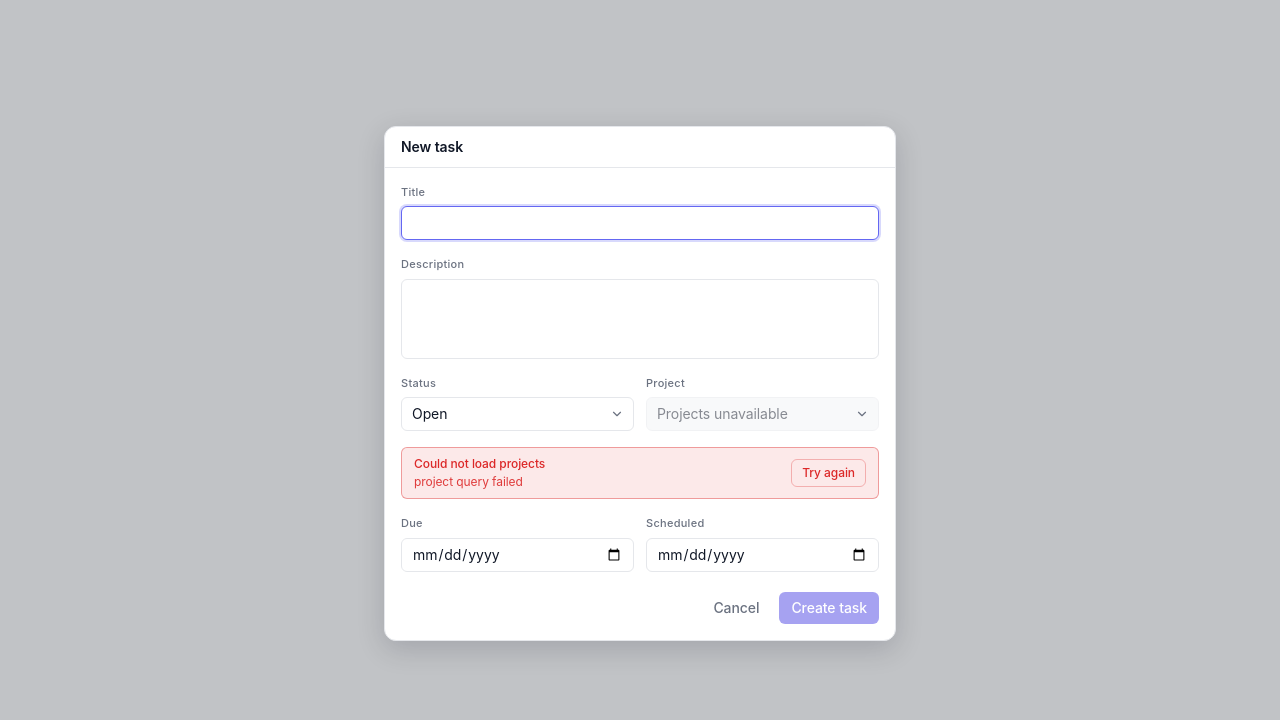
Scenario: TaskCreateDialog › distinguishes project loading and failure from an intentional unlinked task
Expected: the dropdown labelled "Project" is disabled, [646,397,879,431]
Expected: the button "Create task" is disabled, [779,592,879,624]
Click the button "Try again" at point(829, 473), box [791,459,866,487]
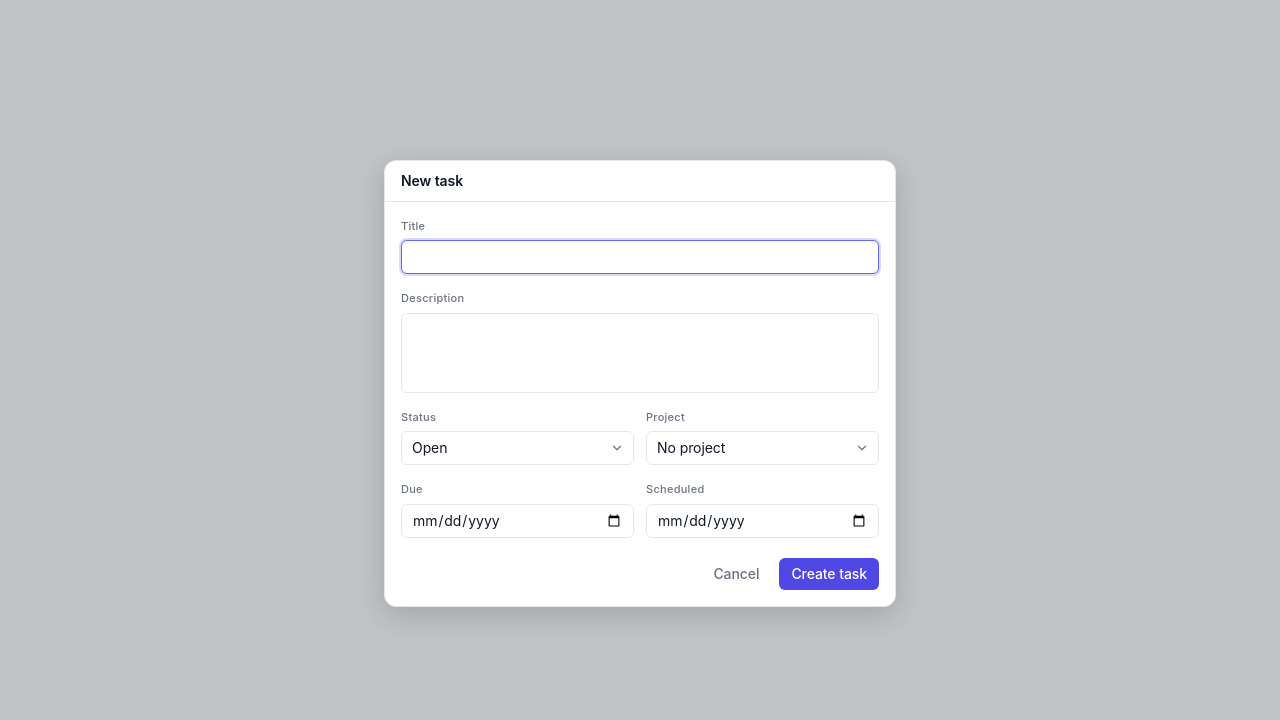
Result: the dropdown labelled "Project" is enabled at [646,431,879,465]
